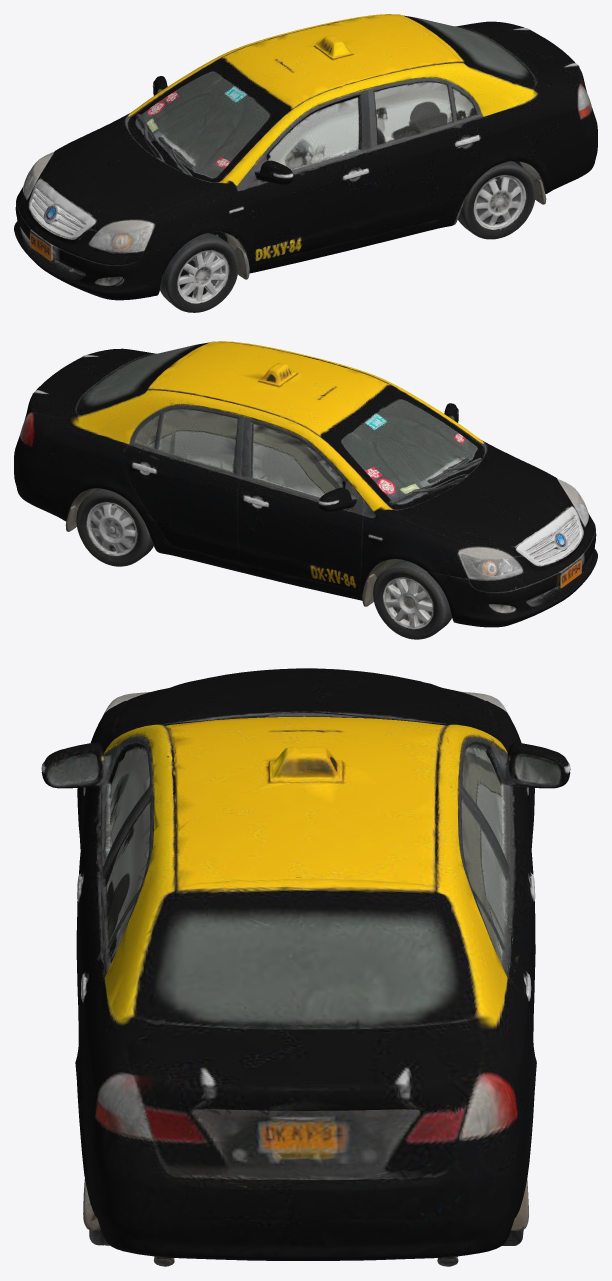
File: taxi.glb
The picture shows the model from 3 angles, top to bottom: view 1: azimuth 30°, elevation 25°; view 2: azimuth 150°, elevation 25°; view 3: azimuth 270°, elevation 25°; orthographic projection. The views are drawn at different scales.
Bounding box in the file's own units: 1.9 × 0.6581 × 0.8326.
1 material, 1 textured.
